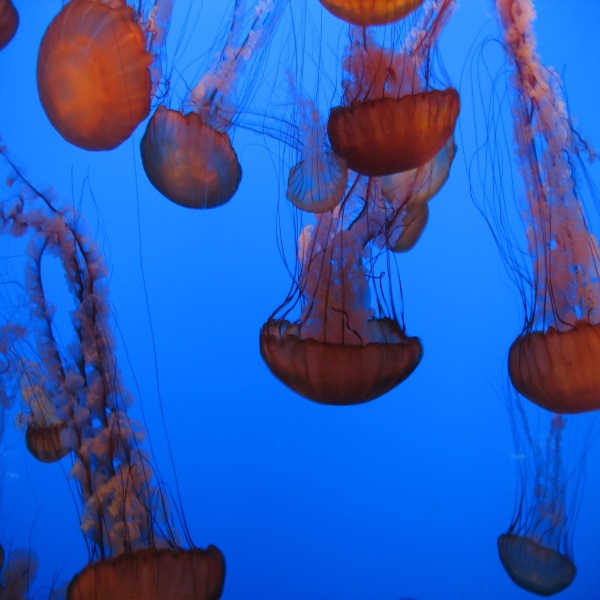Jellyfish: (139, 0, 599, 599), (0, 140, 225, 599), (134, 0, 287, 212), (33, 0, 203, 151), (0, 262, 75, 469)
